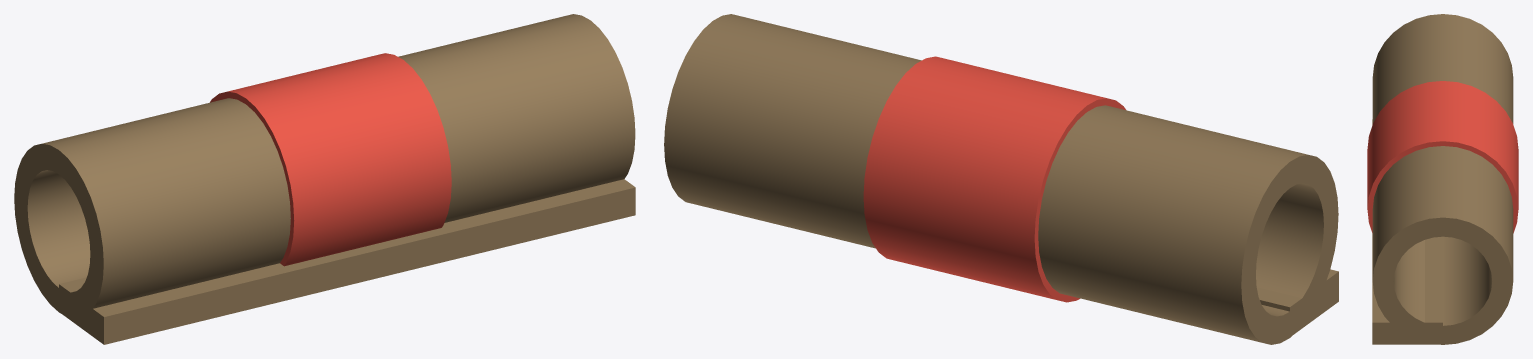
File: spell.gltf
3 views of the same model, side by side, from view 1: azimuth 30°, elevation 25°; view 2: azimuth 150°, elevation 25°; view 3: azimuth 270°, elevation 25° (orthographic). The views are drawn at different scales.
Parts seen in each view (by area): view 1: Cube, Cube.001; view 2: Cube, Cube.001; view 3: Cube, Cube.001.
Boxes of the visible parts, x1=… form: Cube: x1=14, y1=14, x2=635, y2=344; Cube.001: x1=210, y1=53, x2=451, y2=266; Cube: x1=664, y1=14, x2=1338, y2=344; Cube.001: x1=863, y1=56, x2=1125, y2=302; Cube: x1=1372, y1=14, x2=1513, y2=344; Cube.001: x1=1367, y1=81, x2=1518, y2=233.
Bounding box in the file's own units: 0.2 × 0.0627 × 0.0627.
